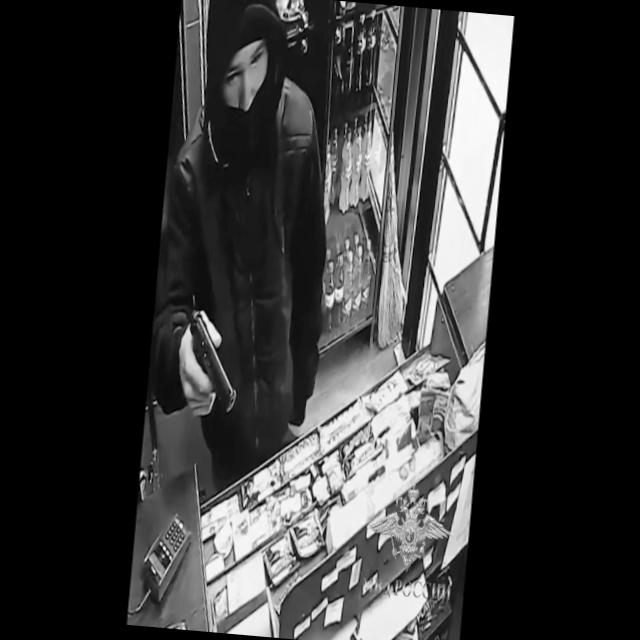gun: (178, 303, 245, 441)
person with a gun: (138, 0, 346, 492)
